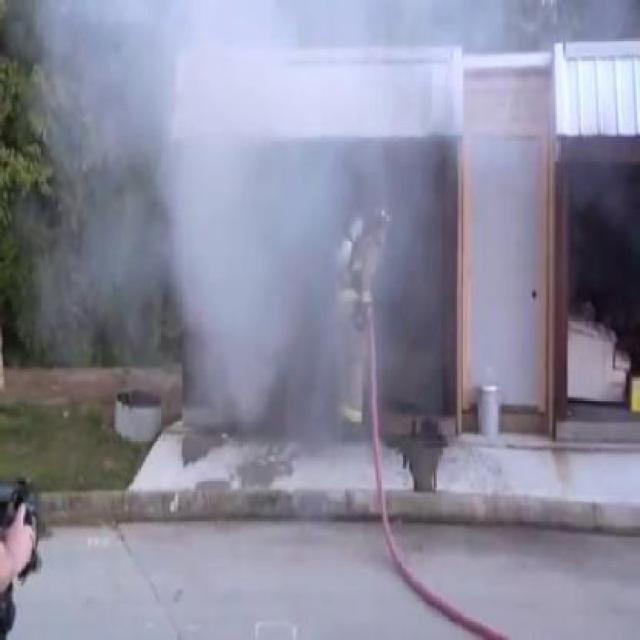smoke: (65, 17, 342, 426), (361, 14, 457, 383)
